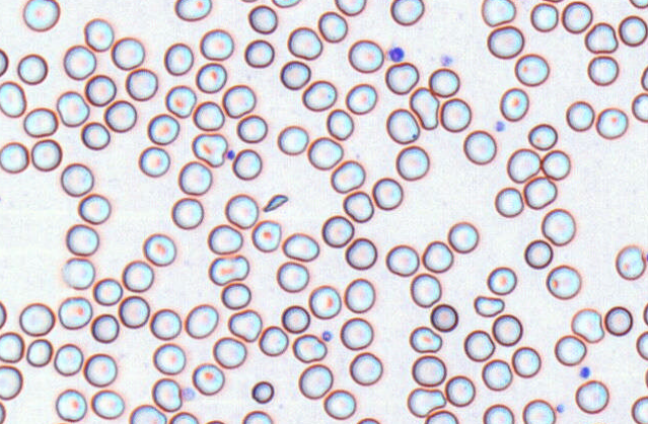PLT: (389, 44, 404, 63), (494, 119, 508, 133), (579, 365, 593, 378), (321, 329, 333, 342), (555, 403, 566, 414), (226, 149, 236, 160)
RBC: (385, 107, 420, 144), (486, 25, 524, 59), (409, 86, 439, 129), (208, 254, 249, 285), (298, 363, 333, 399), (191, 132, 227, 167), (545, 264, 581, 299), (541, 208, 575, 245), (19, 302, 55, 336), (570, 307, 604, 343), (307, 136, 343, 170), (506, 147, 540, 183), (347, 39, 383, 73), (56, 90, 89, 127), (406, 387, 446, 417), (227, 308, 262, 342), (330, 159, 365, 193), (224, 193, 258, 228), (178, 160, 212, 195), (184, 303, 218, 338), (287, 26, 322, 60), (395, 145, 429, 180), (63, 44, 96, 80), (22, 0, 60, 31), (575, 379, 609, 413), (83, 353, 117, 387), (222, 84, 256, 118), (110, 36, 144, 70), (308, 284, 341, 319), (384, 61, 419, 94), (463, 129, 496, 164), (514, 53, 549, 86), (58, 296, 92, 329), (349, 351, 382, 385), (339, 317, 373, 350), (65, 223, 99, 256), (125, 67, 158, 101), (60, 162, 93, 196), (411, 354, 446, 386), (301, 79, 336, 111), (439, 97, 471, 132), (344, 277, 375, 313), (615, 244, 646, 280), (321, 214, 354, 247), (344, 237, 377, 270), (523, 176, 556, 209), (143, 233, 176, 266), (103, 99, 136, 132), (212, 336, 246, 368), (385, 244, 419, 276), (199, 28, 233, 60), (207, 223, 242, 254), (410, 272, 441, 307), (282, 232, 319, 261), (152, 343, 185, 375), (371, 177, 403, 210), (122, 259, 154, 292), (30, 138, 62, 171), (61, 257, 94, 289), (151, 377, 182, 411), (165, 84, 196, 118), (584, 22, 618, 53), (554, 334, 586, 366), (463, 329, 495, 361), (84, 74, 116, 106), (342, 190, 374, 222), (192, 363, 224, 395), (147, 113, 179, 145), (171, 197, 203, 229), (596, 107, 628, 139), (444, 374, 475, 407), (481, 358, 512, 391), (55, 388, 86, 421), (118, 295, 149, 328), (83, 18, 114, 51), (276, 261, 309, 292), (77, 193, 110, 224), (561, 0, 592, 33), (23, 107, 57, 137), (150, 308, 181, 340), (422, 240, 453, 272), (447, 221, 478, 253), (231, 148, 262, 180), (138, 146, 170, 177), (192, 100, 224, 131), (345, 83, 377, 114), (323, 389, 356, 419), (53, 343, 83, 376), (492, 313, 522, 346), (91, 389, 124, 419), (251, 219, 281, 252), (163, 42, 193, 75), (292, 333, 326, 362), (499, 87, 528, 121), (0, 80, 26, 117), (195, 62, 226, 93), (277, 124, 308, 155), (587, 55, 618, 86), (258, 325, 288, 356), (279, 60, 310, 90), (317, 11, 347, 42), (540, 149, 570, 180), (17, 53, 47, 84), (428, 67, 459, 97), (0, 141, 29, 173), (409, 325, 442, 353), (511, 346, 540, 377), (604, 305, 633, 336), (494, 186, 523, 217), (618, 15, 647, 46), (236, 114, 267, 143), (565, 100, 594, 131), (481, 0, 515, 26), (90, 313, 119, 343), (524, 239, 553, 269), (248, 4, 277, 34), (486, 266, 516, 295), (244, 39, 274, 68), (326, 108, 353, 140), (390, 0, 424, 25), (81, 121, 110, 150), (281, 304, 310, 333), (92, 277, 122, 305), (530, 2, 558, 32), (220, 282, 251, 309), (522, 398, 555, 423), (527, 123, 557, 150), (0, 364, 22, 400), (430, 303, 458, 331), (174, 0, 211, 21), (0, 331, 24, 363), (26, 338, 52, 367), (129, 404, 166, 423), (482, 403, 514, 423), (251, 380, 274, 403), (334, 0, 366, 16), (631, 92, 647, 122), (424, 409, 458, 423), (631, 395, 647, 423), (242, 410, 272, 423), (168, 411, 198, 423), (636, 330, 647, 360), (271, 0, 300, 8), (0, 48, 8, 76), (0, 300, 7, 328), (640, 65, 647, 91), (356, 417, 380, 423), (629, 0, 647, 8), (0, 400, 6, 423), (642, 302, 648, 325), (644, 367, 648, 389), (204, 419, 224, 423), (541, 0, 564, 3), (239, 0, 259, 3)
Schistocyte: (473, 295, 506, 318), (262, 194, 289, 214)
